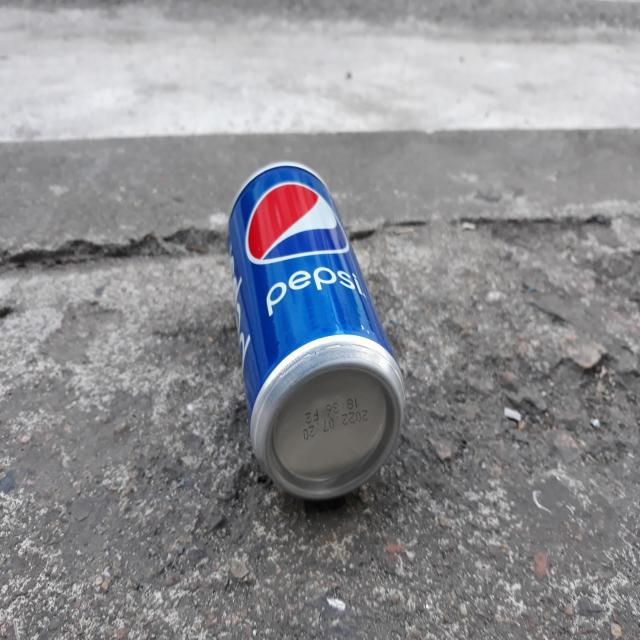can: (228, 162, 405, 501)
